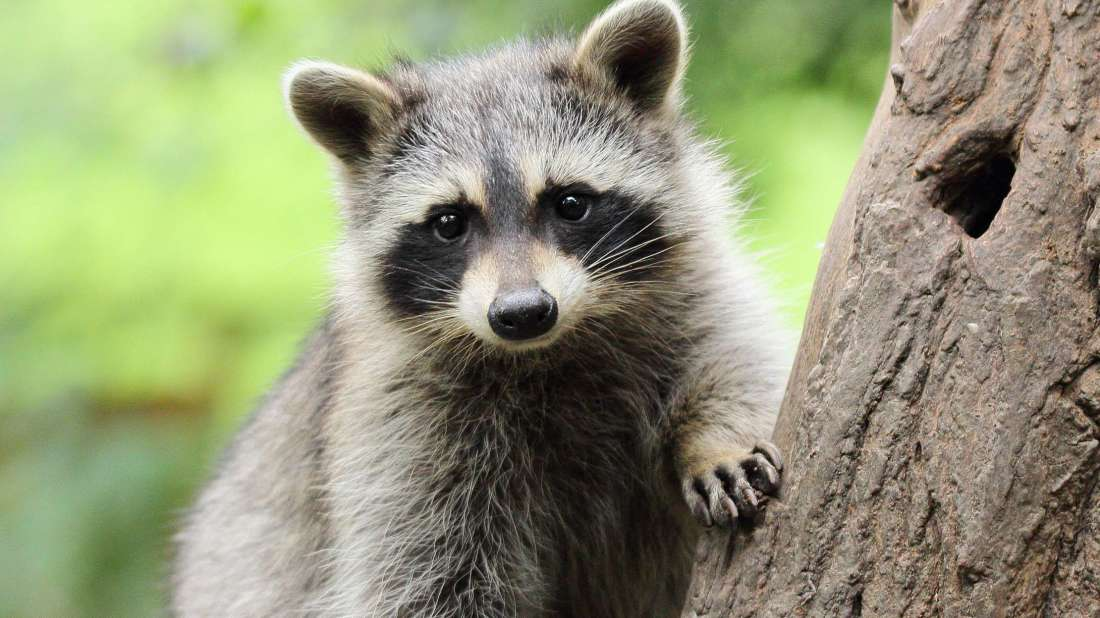raccoon: (166, 1, 813, 618)
